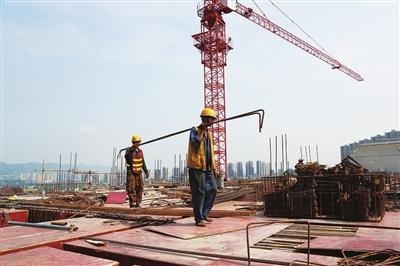yellow: (198, 107, 217, 128), (129, 134, 141, 148)
